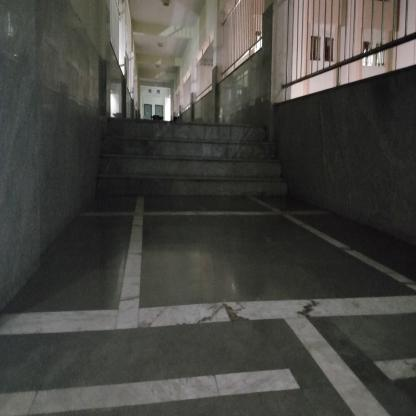stairs: (109, 120, 268, 200)
